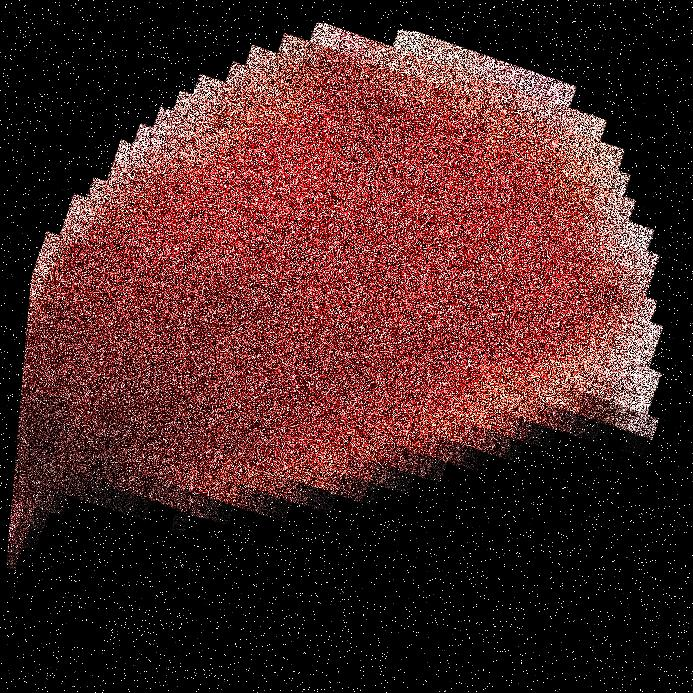Capacete: (68, 0, 542, 692)
